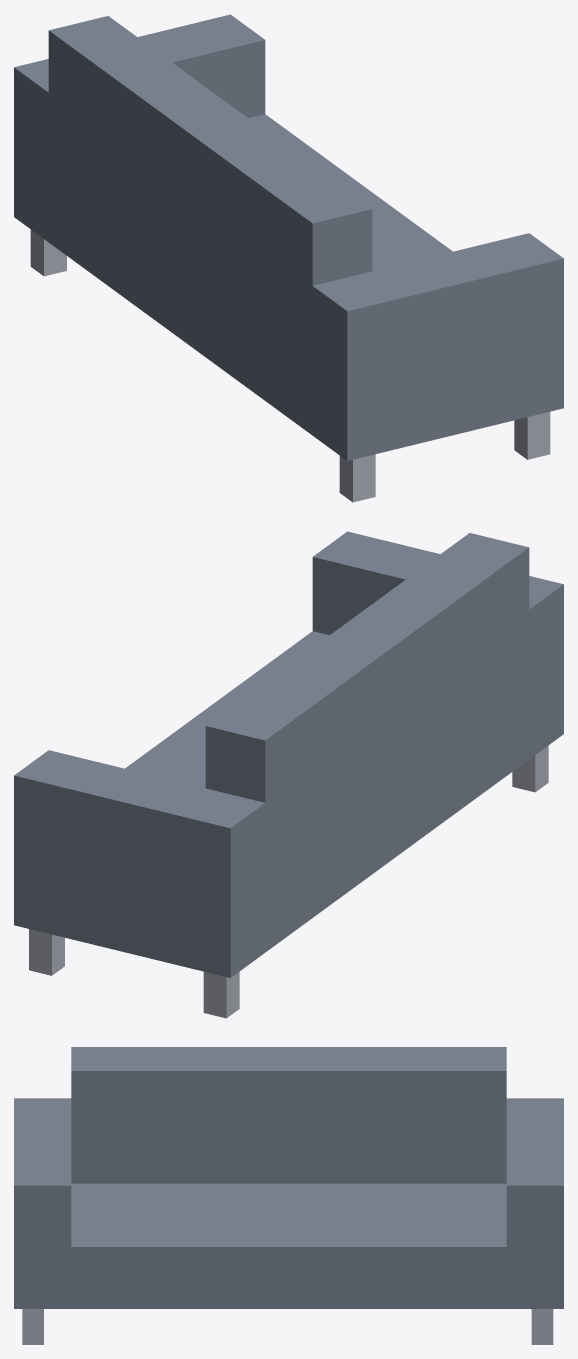
Rendered from Canape.fbx.
The picture shows the model from 3 angles, top to bottom: view 1: azimuth 30°, elevation 25°; view 2: azimuth 150°, elevation 25°; view 3: azimuth 270°, elevation 25°; orthographic projection. The views are drawn at different scales.
Parts seen in each view (by area): view 1: Canape; view 2: Canape; view 3: Canape.
Part boxes in pixels (x1,y1,x2,y2): Canape: (14,14,563,502); Canape: (14,531,563,1018); Canape: (14,1047,563,1344).
Bounding box in the file's own units: 300 × 344 × 800.
